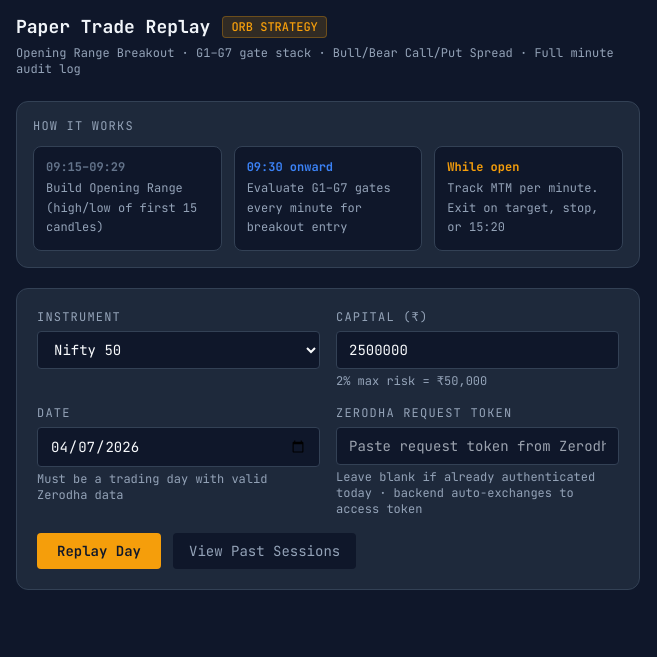
it: PaperTrading › omits blank request token and renders engine errors
Click the button "Replay Day".
click(99, 550)  # box [37,532,161,568]
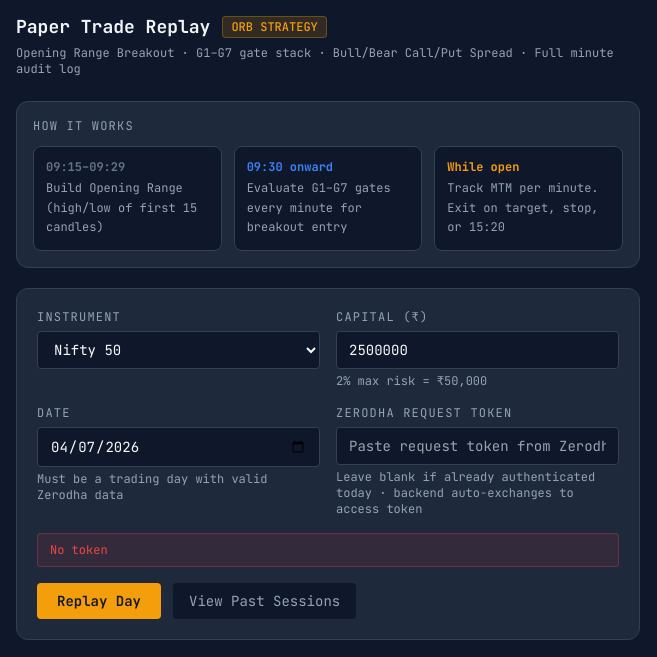
Now the text "No token" is shown, box [37,532,619,566]
